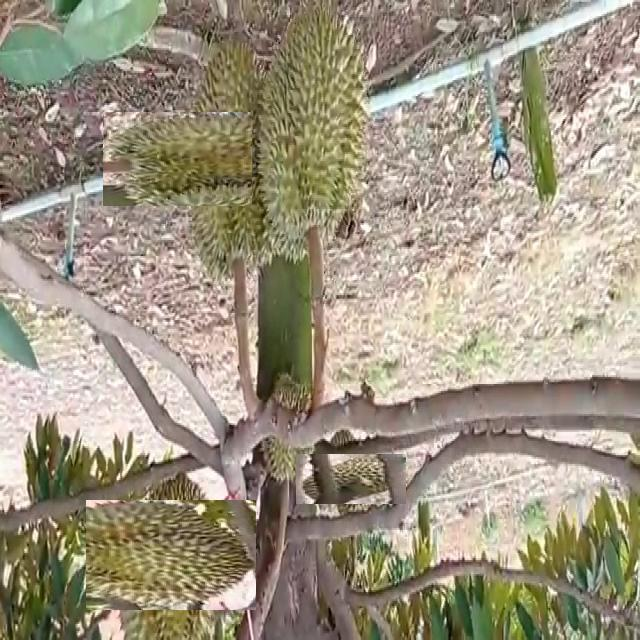durian: (252, 8, 370, 280), (144, 71, 319, 247), (101, 485, 242, 625), (257, 367, 318, 493), (310, 438, 391, 519)
